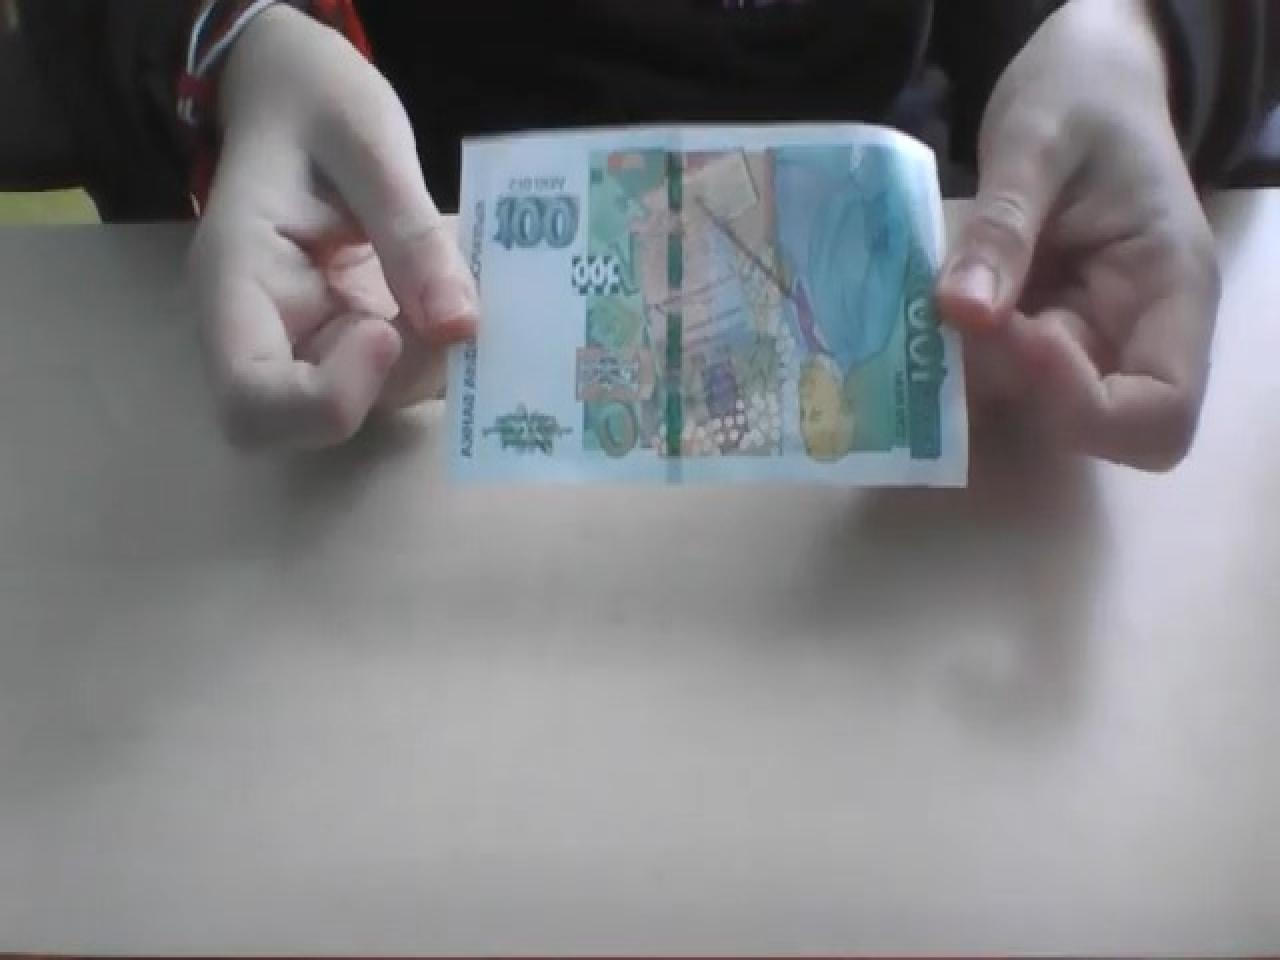100leva: (444, 117, 970, 491), (490, 187, 582, 250)
